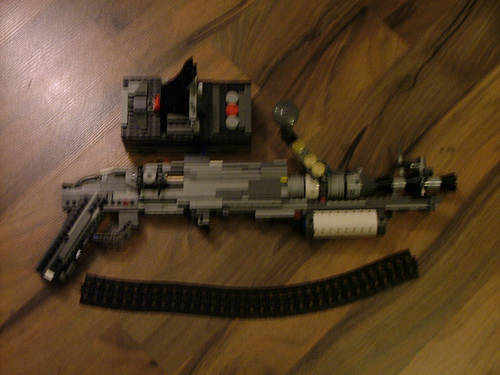rifle: (31, 43, 480, 327)
